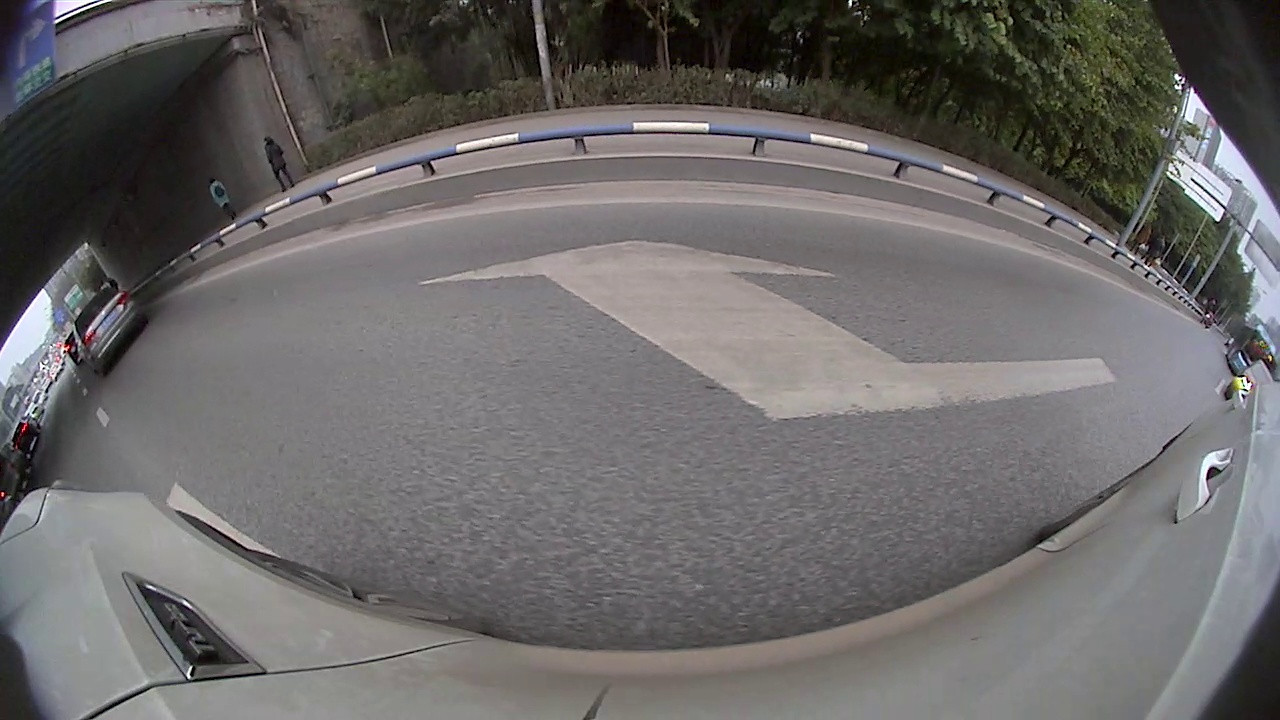car: (872, 99, 1017, 231), (88, 185, 212, 298), (183, 128, 317, 204), (1170, 352, 1238, 445), (3, 309, 67, 404), (1112, 265, 1172, 346)
front: (121, 264, 149, 292), (985, 201, 1012, 230), (244, 160, 270, 190)
rear: (919, 167, 950, 203), (97, 276, 122, 299)
